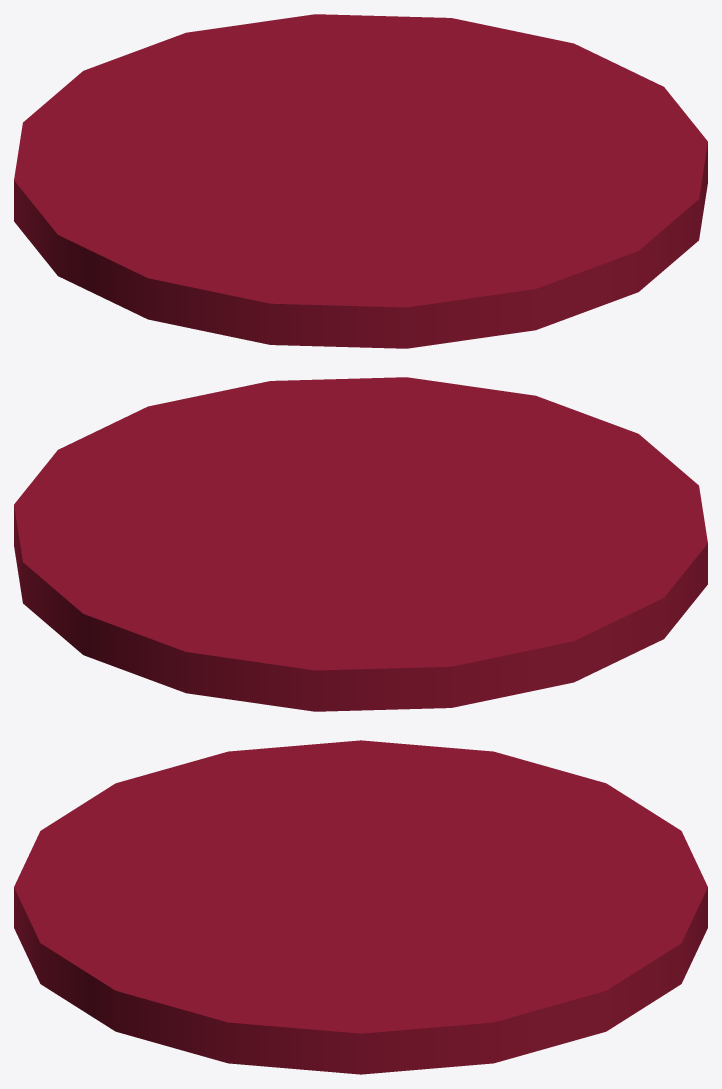
File: SlideTomato.fbx
The picture shows the model from 3 angles, top to bottom: view 1: azimuth 30°, elevation 25°; view 2: azimuth 150°, elevation 25°; view 3: azimuth 270°, elevation 25°; orthographic projection.
Visible parts, largest first — view 1: SlideTomato; view 2: SlideTomato; view 3: SlideTomato.
Part boxes in pixels (x1,y1,x2,y2): SlideTomato: (14, 14, 707, 348); SlideTomato: (14, 377, 707, 711); SlideTomato: (14, 740, 707, 1074).
Size of the model in its own units: 179 by 11.64 by 179.
